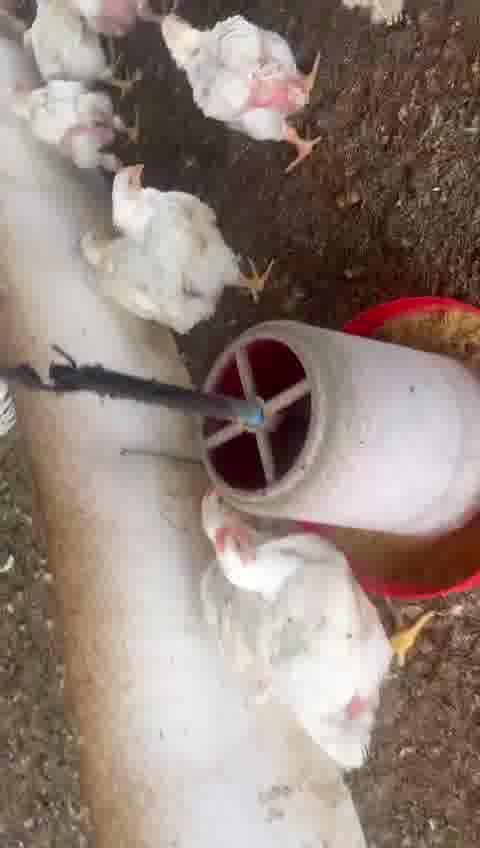Normal: (204, 504, 433, 713), (162, 17, 327, 157), (112, 165, 275, 302), (19, 84, 148, 172)
